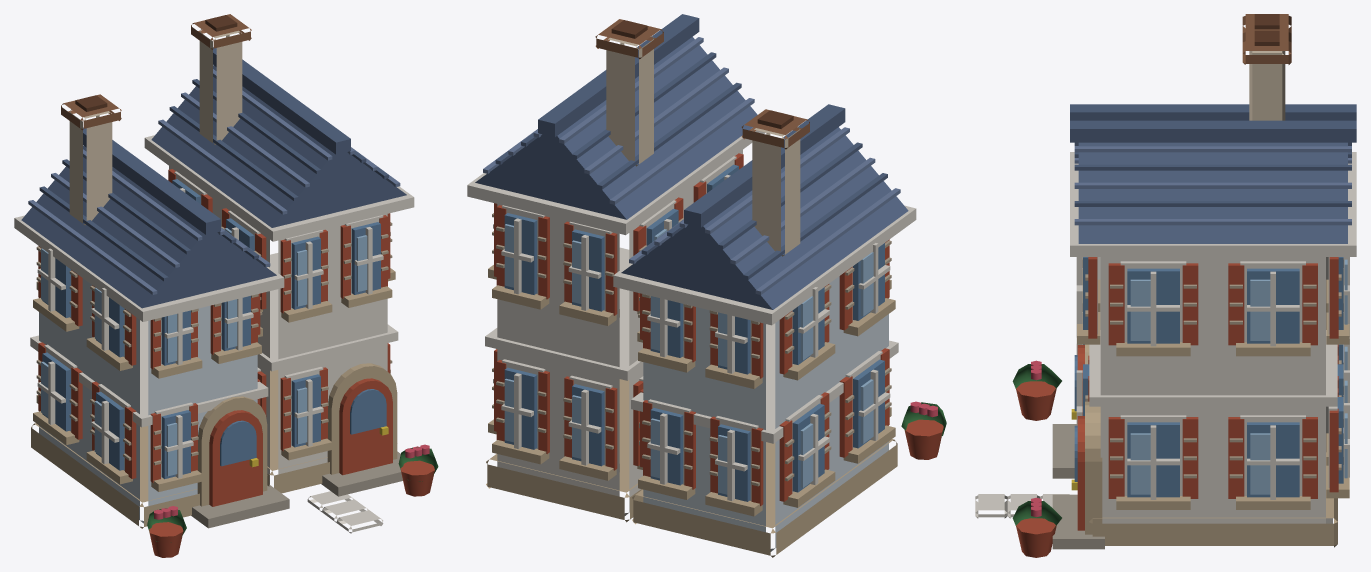
The model's file is house-e.glb.
3 views of the same model, side by side, from view 1: azimuth 30°, elevation 25°; view 2: azimuth 150°, elevation 25°; view 3: azimuth 270°, elevation 25° (orthographic). The views are drawn at different scales.
Parts seen in each view (by area): view 1: house-e; view 2: house-e; view 3: house-e.
Boxes of the visible parts, left/top/right/bottom form: house-e: left=14, top=14, right=438, bottom=557; house-e: left=467, top=14, right=946, bottom=557; house-e: left=975, top=14, right=1356, bottom=557.
Size of the model in its own units: 0.8289 by 1.16 by 0.8601.
